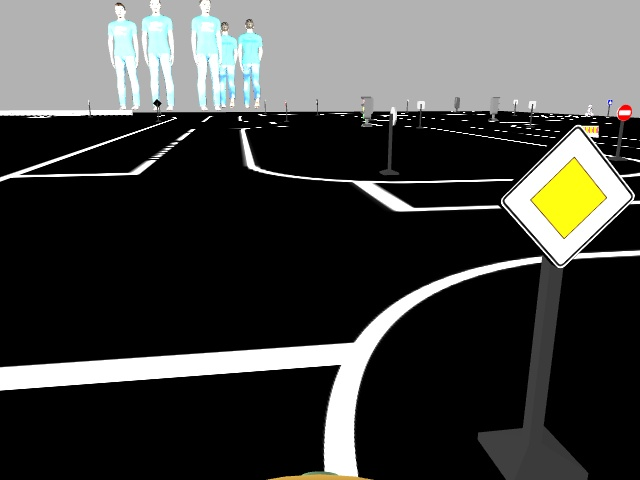NoEntry: (616, 100, 635, 122)
Priority: (497, 125, 631, 267)
